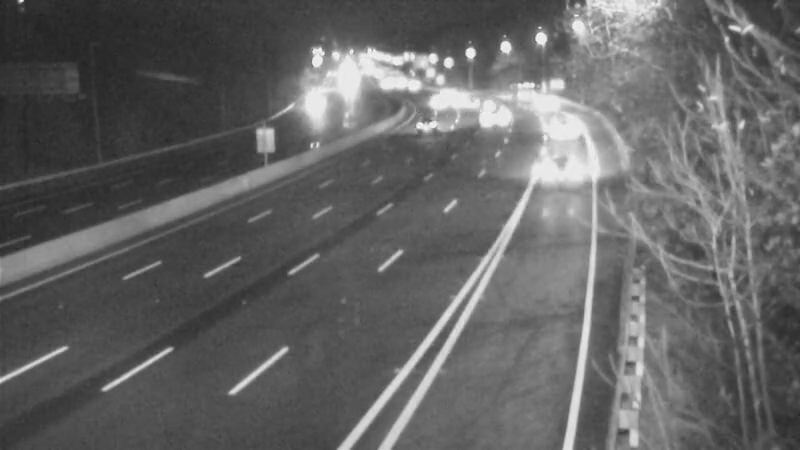vehicle: (517, 132, 597, 212), (495, 66, 545, 116), (418, 67, 468, 117), (408, 77, 458, 127), (518, 81, 568, 131), (460, 79, 510, 129), (465, 93, 515, 143), (536, 99, 586, 149), (401, 99, 451, 149), (285, 76, 335, 126)
